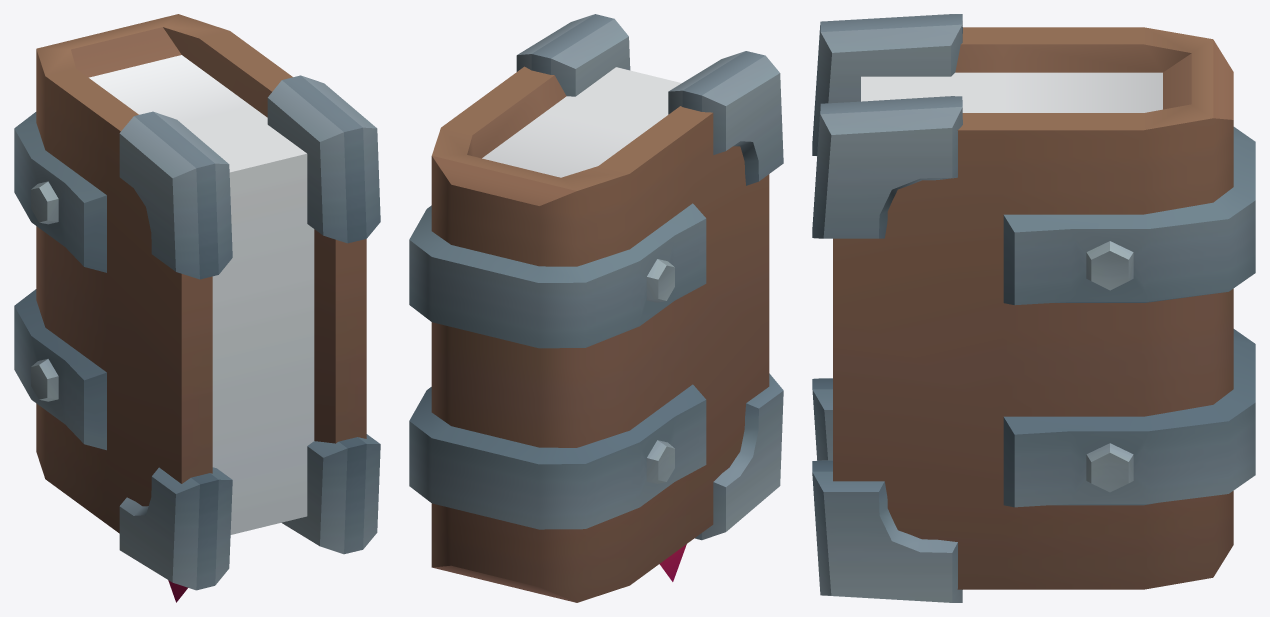
The model's file is journal_closed.glb.
3 views of the same model, side by side, from view 1: azimuth 30°, elevation 25°; view 2: azimuth 150°, elevation 25°; view 3: azimuth 270°, elevation 25° (orthographic). The views are drawn at different scales.
Visible parts, largest first — view 1: journal_closed; view 2: journal_closed; view 3: journal_closed.
Part boxes in pixels (left/top/right/bottom): journal_closed: left=14, top=14, right=380, bottom=602; journal_closed: left=409, top=14, right=783, bottom=602; journal_closed: left=812, top=14, right=1255, bottom=602.
Size of the model in its own units: 0.3835 by 0.7914 by 0.5691.
1 material, 1 textured.
